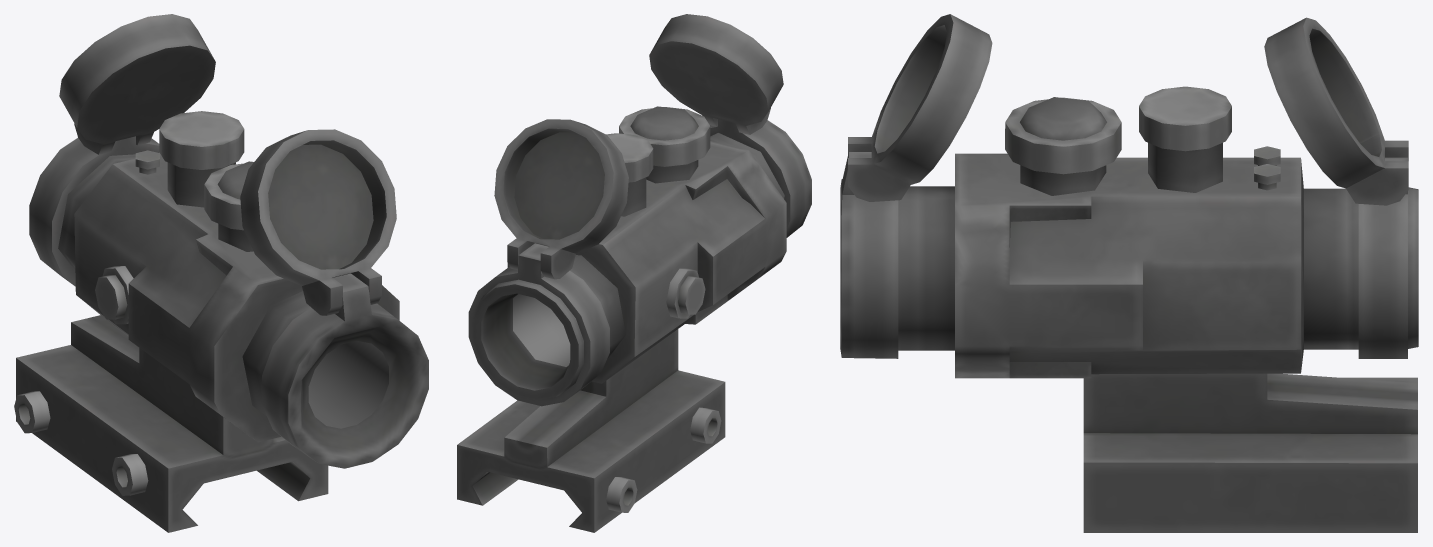
Rendered from IG_Acc_Scope_All_2X_1.fbx.
3 renders of one model, left to right at view 1: azimuth 30°, elevation 25°; view 2: azimuth 150°, elevation 25°; view 3: azimuth 270°, elevation 25°, orthographic. The views are drawn at different scales.
Parts seen in each view (by area): view 1: Scope_All_2X_1; view 2: Scope_All_2X_1; view 3: Scope_All_2X_1.
Boxes of the visible parts, bbox=[...] form: Scope_All_2X_1: bbox=[14, 14, 428, 532]; Scope_All_2X_1: bbox=[457, 14, 811, 532]; Scope_All_2X_1: bbox=[840, 14, 1418, 532].
Size of the model in its own units: 0.0868 by 0.1881 by 0.2108.
